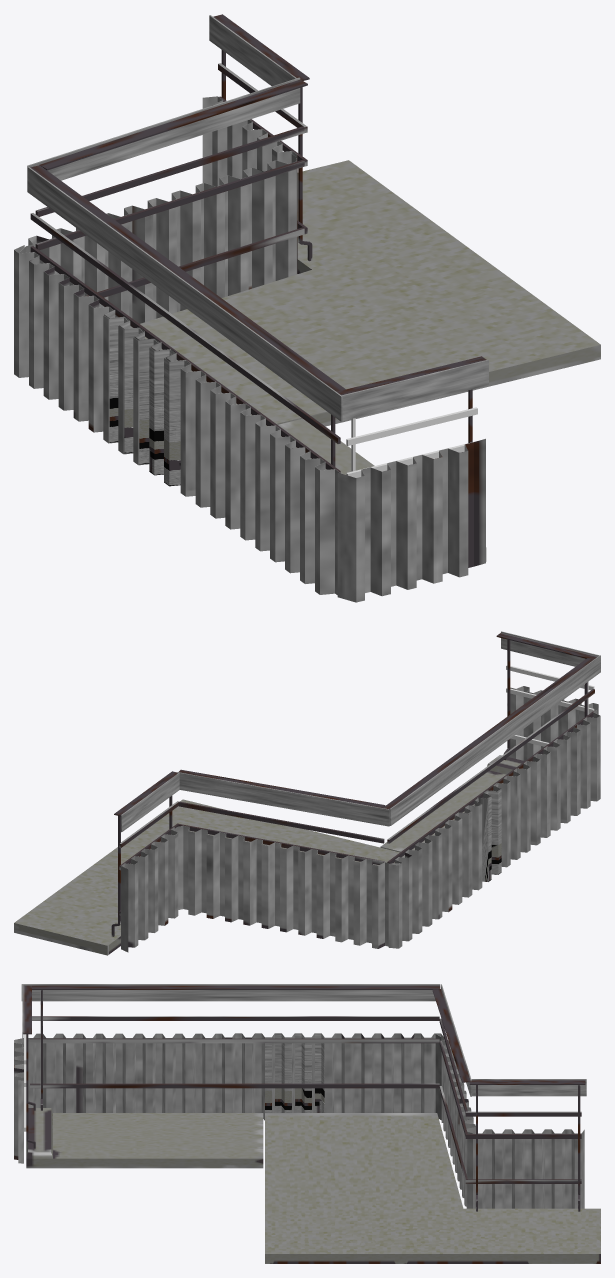
Rendered from Balkon L.fbx.
The picture shows the model from 3 angles, top to bottom: view 1: azimuth 30°, elevation 25°; view 2: azimuth 150°, elevation 25°; view 3: azimuth 270°, elevation 25°; orthographic projection. The views are drawn at different scales.
Visible parts, largest first — view 1: Balkon_bottom.029, face.067, face.070, face.069, face.072, parapet.050, face.068, parapet.051, Balkon_rig_h.138, Balkon_rig_h.007, parapet.048, face.071 (+5 smaller); view 2: face.069, Balkon_bottom.029, face.067, face.072, parapet.050, face.071, parapet.051, Balkon_bottom.028, Balkon_rig_h.007, face.070, Balkon_rig_h.138, face.068 (+5 smaller); view 3: Balkon_bottom.029, face.067, Balkon_bottom.028, face.072, face.071, parapet.050, Balkon_rig_h.007, face.068, face.069, parapet.049, Balkon_rig_h.093, Balkon_rig_h.006 (+4 smaller).
Boxes of the visible parts, x1,y1,x2,y2 form: Balkon_bottom.029: (130, 160, 600, 426); face.067: (150, 342, 340, 594); face.070: (337, 438, 485, 602); face.069: (19, 154, 296, 326); face.072: (14, 245, 158, 465); parapet.050: (27, 165, 345, 421); face.068: (104, 310, 189, 486); parapet.051: (27, 77, 307, 180); Balkon_rig_h.138: (35, 126, 304, 297); Balkon_rig_h.007: (30, 213, 340, 472); parapet.048: (337, 356, 488, 420); face.071: (202, 96, 297, 274); face.069: (174, 825, 400, 948); Balkon_bottom.029: (14, 799, 404, 955); face.067: (477, 710, 600, 867); face.072: (388, 799, 482, 948); parapet.050: (383, 655, 600, 825); face.071: (121, 827, 178, 952); parapet.051: (177, 769, 389, 826); Balkon_bottom.028: (380, 755, 524, 852); Balkon_rig_h.007: (387, 689, 594, 863); face.070: (508, 686, 598, 761); Balkon_rig_h.138: (178, 801, 384, 864); face.068: (448, 783, 501, 881); Balkon_bottom.029: (265, 1113, 600, 1263); face.067: (28, 1033, 264, 1120); Balkon_bottom.028: (26, 1108, 263, 1168); face.072: (272, 1033, 444, 1112); face.071: (475, 1129, 584, 1208); parapet.050: (21, 984, 440, 1001); Balkon_rig_h.007: (30, 1016, 439, 1088); face.068: (225, 1033, 324, 1112); face.069: (435, 1034, 475, 1208); parapet.049: (469, 1079, 586, 1096); Balkon_rig_h.093: (465, 1111, 581, 1183); Balkon_rig_h.006: (26, 990, 580, 1211).
Bounding box in the file's own units: 325 × 140 × 545.
